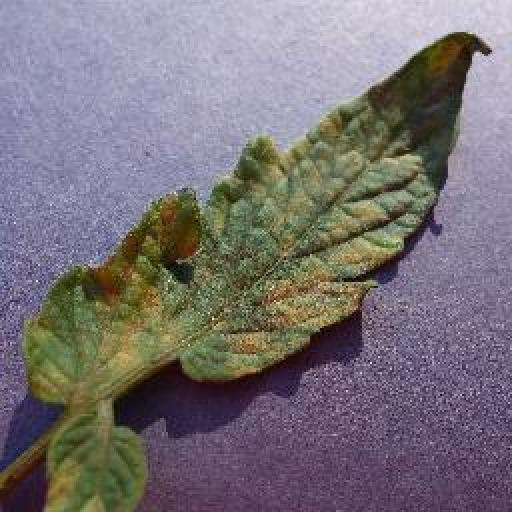disease_tomato: (22, 32, 491, 404), (47, 413, 151, 512)
